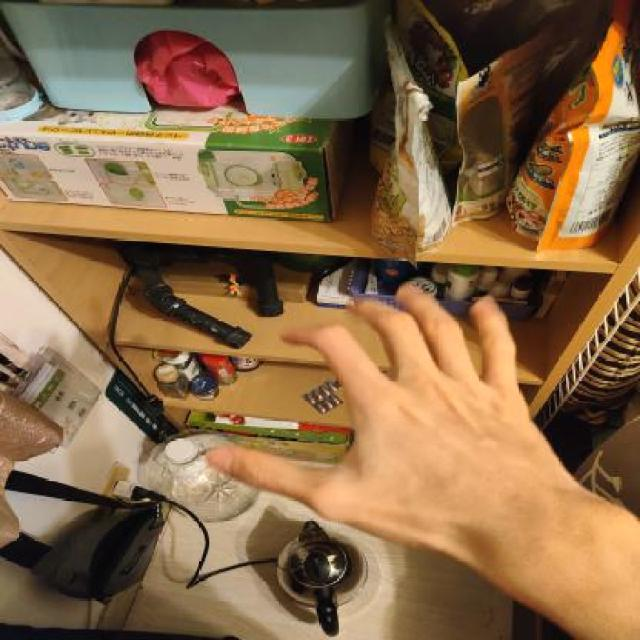no_glove: (193, 268, 593, 584)
